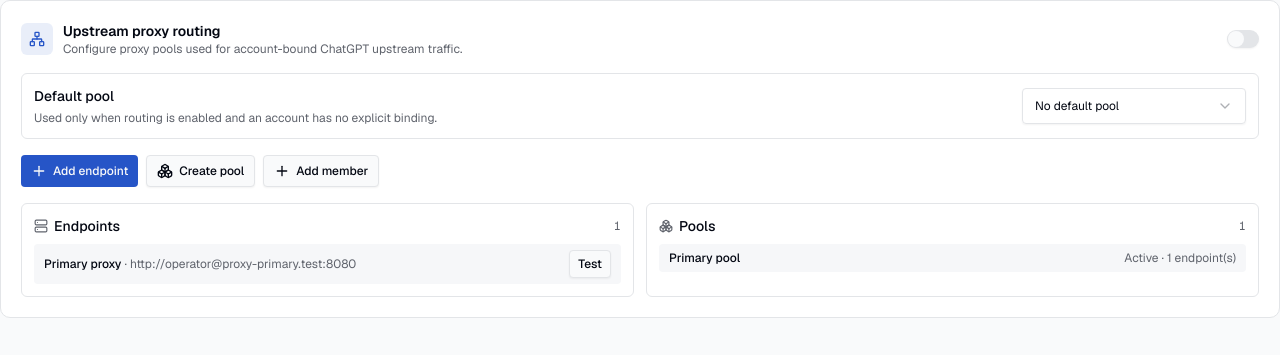
Scenario: UpstreamProxySettings › tests a configured proxy endpoint
Click the button "Test". click: (590, 264)
box: [569,250,611,278]
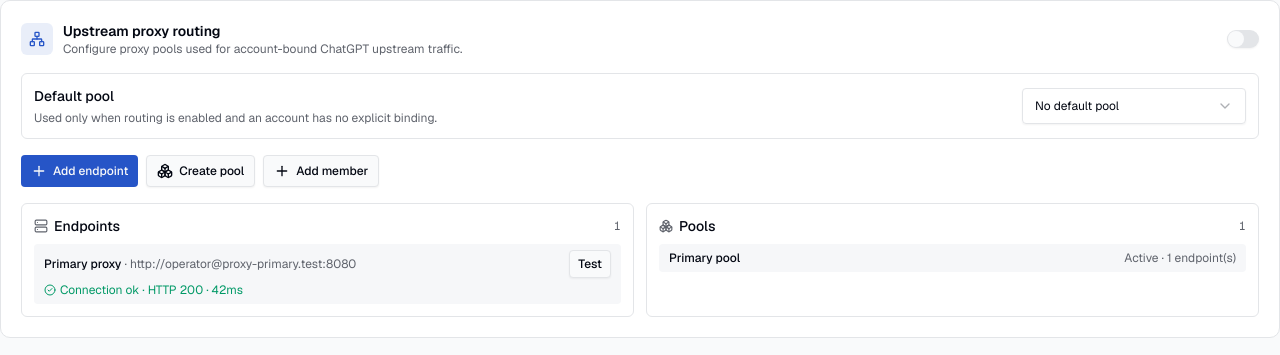
Now the text "Connection ok · HTTP 200 · 42ms" is shown, box [60,282,243,298]
